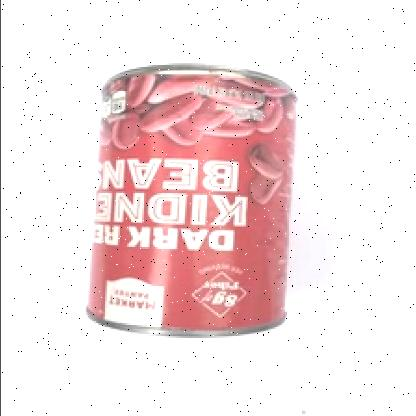Can: (81, 56, 300, 345)
